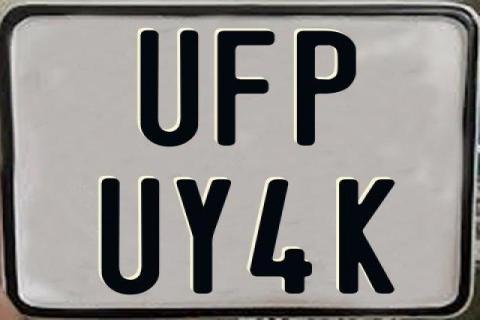0: (250, 177, 318, 292)
F: (214, 30, 276, 146)
K: (338, 178, 394, 296)
P: (296, 30, 356, 146)
U: (100, 178, 160, 294), (139, 29, 197, 148)
Y: (176, 177, 234, 292)
